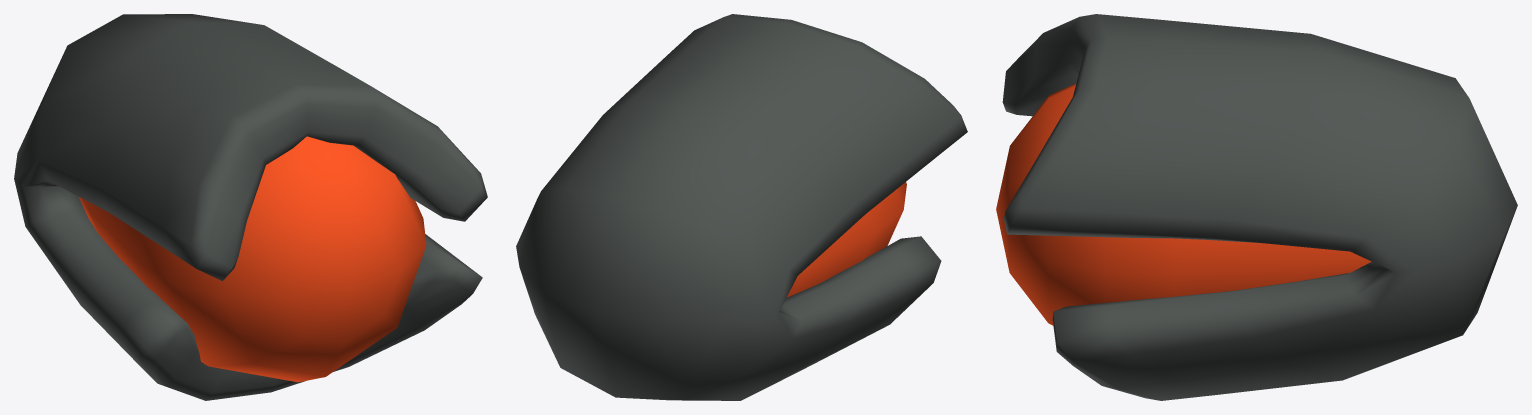
The model's file is xsens_LeftThirdDP.dae.
3 renders of one model, left to right at view 1: azimuth 30°, elevation 25°; view 2: azimuth 150°, elevation 25°; view 3: azimuth 270°, elevation 25°, orthographic. The views are drawn at different scales.
Visible parts, largest first — view 1: LeftThirdDP; view 2: LeftThirdDP; view 3: LeftThirdDP.
Part boxes in pixels (x1=…): LeftThirdDP: x1=14, y1=14, x2=487, y2=400; LeftThirdDP: x1=516, y1=14, x2=967, y2=400; LeftThirdDP: x1=996, y1=14, x2=1517, y2=400.
Bounding box in the file's own units: 0.0157 × 0.0213 × 0.0154.
